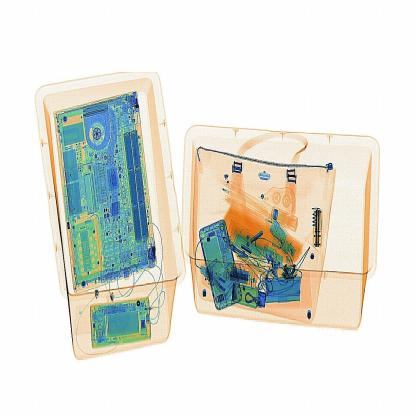scissors: (309, 206, 327, 252)
